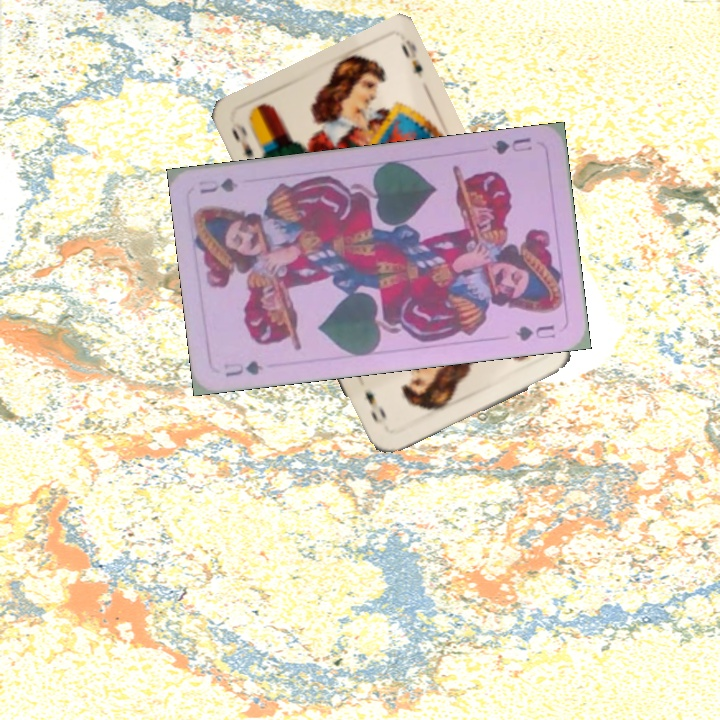EO: (227, 117, 256, 161)
GU: (488, 134, 535, 157), (220, 357, 266, 380)
